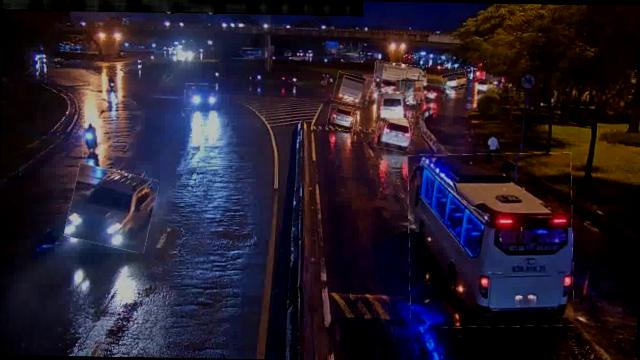Bike: (82, 123, 100, 161)
Bus: (407, 151, 576, 329), (376, 92, 411, 122)
Car: (67, 165, 156, 250), (375, 114, 413, 151), (186, 82, 217, 109), (328, 105, 356, 130), (420, 84, 446, 100), (443, 72, 467, 89)
Truck: (373, 62, 425, 94), (334, 72, 372, 105), (401, 74, 426, 101)
